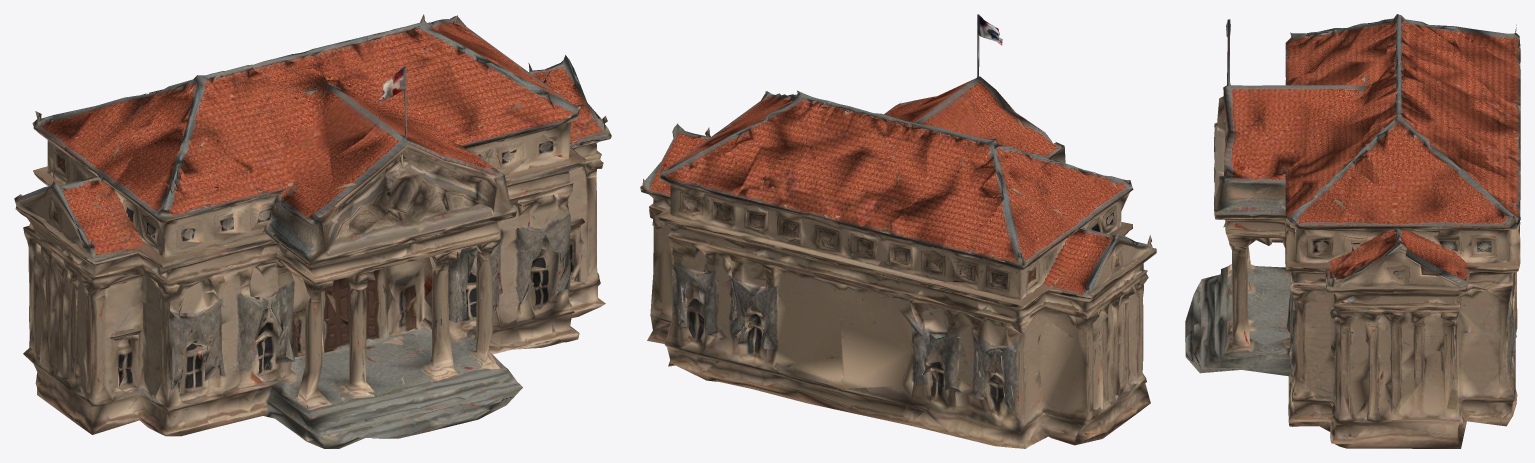
Rendered from theater.glb.
3 views of the same model, side by side, from view 1: azimuth 30°, elevation 25°; view 2: azimuth 150°, elevation 25°; view 3: azimuth 270°, elevation 25° (orthographic). The views are drawn at different scales.
Size of the model in its own units: 1.9 by 1.21 by 1.16.
1 material, 1 textured.
